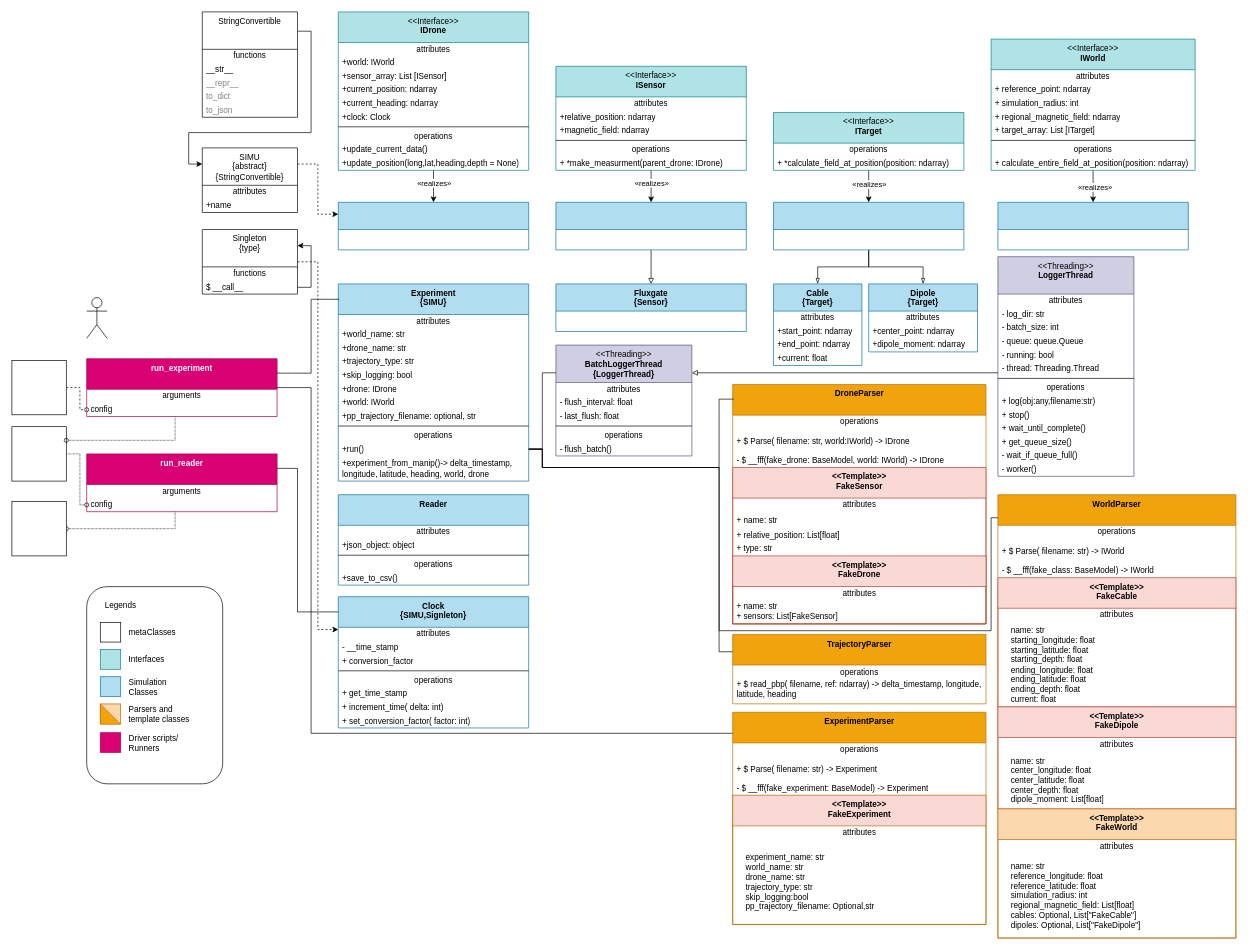
Some shapes in this 1248 by 950 pixel diagram are drawn without their labels. Here are the shapes that lost their labels. From the top down, the centre of each, then its label:
the point at 433,226: Drone {SIMU,IDrone}
the point at 650,226: Sensor {SIMU,ISensor}
the point at 868,226: Target {SIMU,ITarget}
the point at 1092,226: World {SIMU,IWorld}
the point at 96,317: Actor
the point at 38,387: .json experiment drone world
the point at 38,453: logs.json drone
the point at 38,528: .CSV
